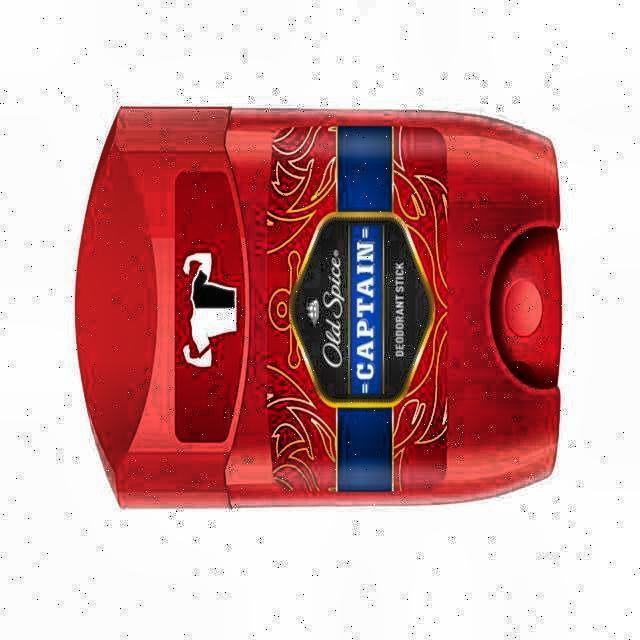plastic: (76, 108, 561, 506)
